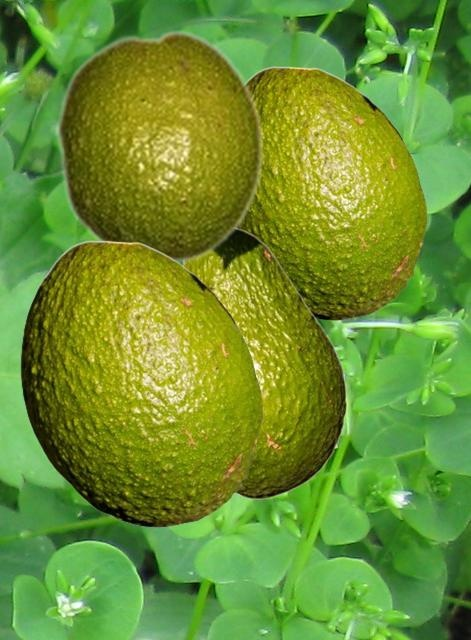avocado: (20, 240, 262, 526), (55, 28, 264, 264), (242, 66, 426, 319), (184, 227, 346, 498)
